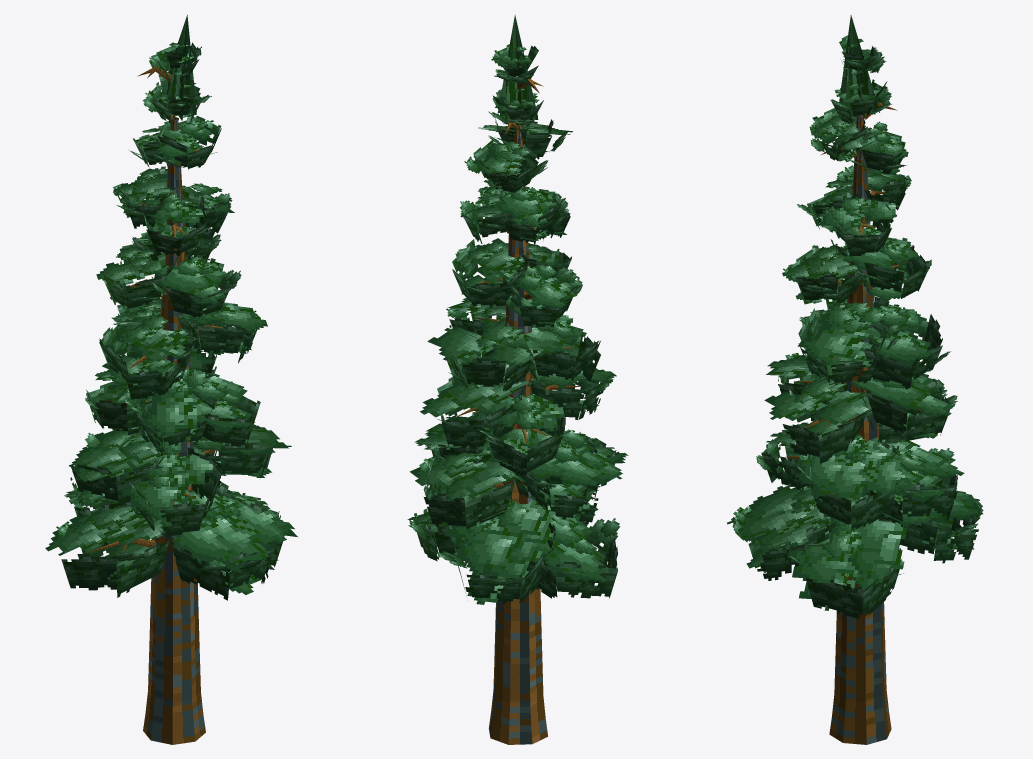
The model's file is rct2.scenery_small.tcf.glb.
3 views of the same model, side by side, from view 1: azimuth 30°, elevation 25°; view 2: azimuth 150°, elevation 25°; view 3: azimuth 270°, elevation 25° (orthographic).
Visible parts, largest first — view 1: rct2.scenery_small.tcf; view 2: rct2.scenery_small.tcf; view 3: rct2.scenery_small.tcf.
Boxes of the visible parts, bbox=[...] form: rct2.scenery_small.tcf: bbox=[45, 14, 297, 744]; rct2.scenery_small.tcf: bbox=[407, 14, 628, 744]; rct2.scenery_small.tcf: bbox=[727, 15, 983, 744].
Size of the model in its own units: 1.52 by 3.92 by 1.56.
1 material, 1 textured.
